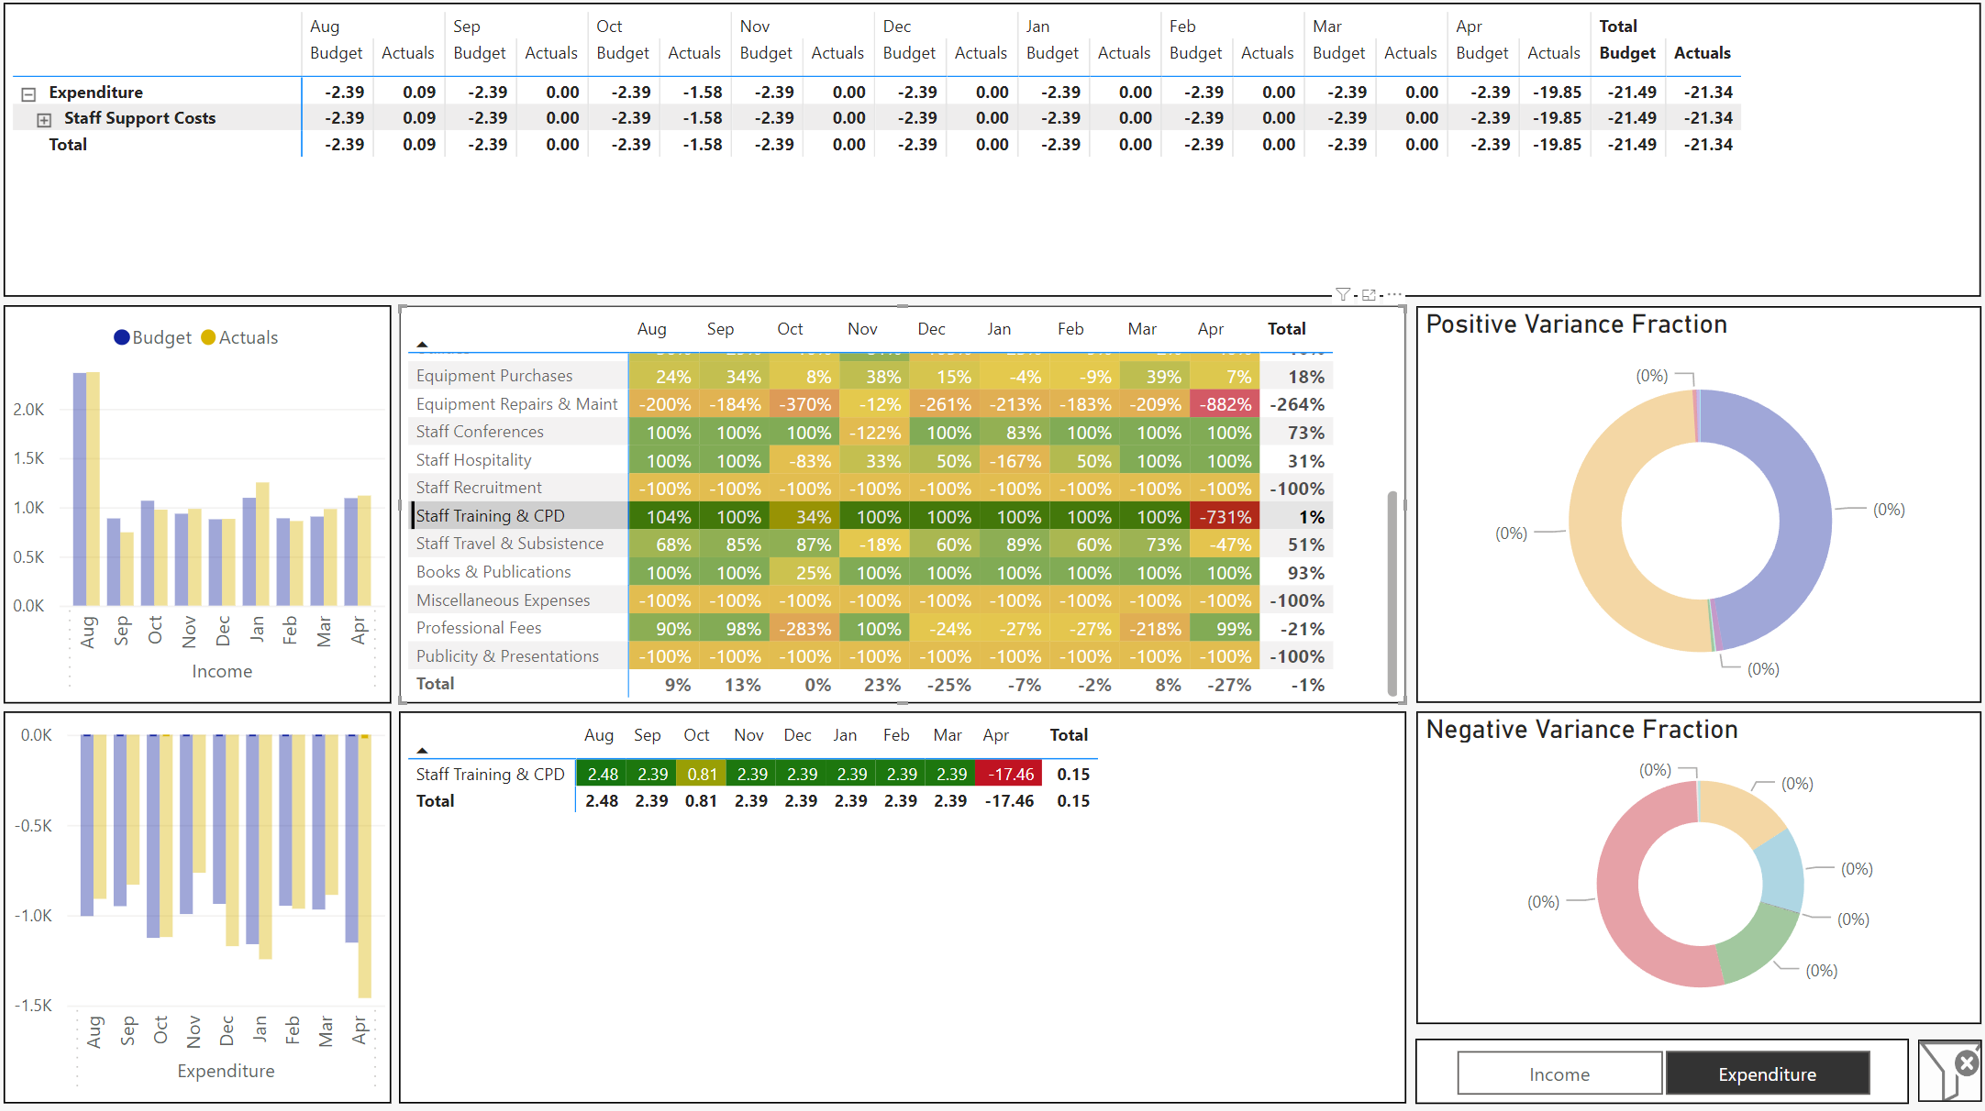

What the dashboard file says about the page in this screenshot:
{"tool":"powerbi","page":{"name":"Page 1","canvas":[1280,720],"ordinal":0},"visuals":[{"type":"slicer","fields":{"Values":["IE_Data.IE"]},"box":[46.7,596.5,150.5,49.8],"z":0},{"type":"slicer","fields":{"Values":["IE_Data.IE"]},"box":[98.3,247.6,143.8,51.6],"z":1000},{"type":"clusteredColumnChart","title":"Income by Month","fields":{"Category":["IE_Data.IE","IE_Data.Month"],"Y":["Sum(IE_Data.Budget)","Sum(IE_Data.Actuals)"]},"box":[4.9,460.8,249.4,251.9],"z":2000},{"type":"clusteredColumnChart","title":"Income by Month","fields":{"Category":["IE_Data.IE","IE_Data.Month"],"Y":["IE_Data.Budget_ABS","IE_Data.Actuals_ABS"]},"box":[4.9,199.7,249.4,256.2],"z":3000},{"type":"pivotTable","fields":{"Rows":["IE_Data.IE","IE_Data.Category","IE_Data.Subcategory"],"Columns":["IE_Data.Month"],"Values":["Sum(IE_Data.Budget)","Sum(IE_Data.Actuals)"]},"box":[4.9,5.5,1269.8,188.6],"z":4000},{"type":"pivotTable","fields":{"Columns":["IE_Data.Month"],"Values":["IE_Data.Varience"],"Rows":["IE_Data.Subcategory"]},"box":[258.6,460.8,646.9,251.9],"z":5000},{"type":"pivotTable","fields":{"Rows":["IE_Data.Subcategory"],"Columns":["IE_Data.Month"],"Values":["IE_Data.Varience %"]},"box":[258.6,199.7,646.9,256.2],"z":6000},{"type":"slicer","fields":{"Values":["IE_Data.IE"]},"box":[911.7,670.9,317,41.8],"z":7000},{"type":"donutChart","title":"Positive Variance Fraction","fields":{"Y":["IE_Data.Variance_Positive"],"Category":["IE_Data.Subcategory"]},"box":[911.9,200.2,362.8,255.5],"z":8000},{"type":"donutChart","title":"Negative Variance Fraction","fields":{"Category":["IE_Data.Subcategory"],"Y":["IE_Data.Variance_Negative"]},"box":[911.9,460.9,362.8,201.5],"z":9000},{"type":"actionButton","box":[1234.2,671.5,40.5,39.9],"z":9001}]}

Visuals, with their boxes in screenshot pixels (x1, y1, x2, y2), scaled from the page's 1280x720 canvas onto the 1985x1111 screenshot:
slicer - IE_Data.IE: {"left": 72, "top": 920, "right": 306, "bottom": 997}
slicer - IE_Data.IE: {"left": 152, "top": 382, "right": 375, "bottom": 462}
"Income by Month" clusteredColumnChart: {"left": 8, "top": 711, "right": 394, "bottom": 1100}
"Income by Month" clusteredColumnChart: {"left": 8, "top": 308, "right": 394, "bottom": 703}
pivotTable - IE_Data.IE x IE_Data.Category: {"left": 8, "top": 8, "right": 1977, "bottom": 300}
pivotTable - IE_Data.Month x IE_Data.Varience: {"left": 401, "top": 711, "right": 1404, "bottom": 1100}
pivotTable - IE_Data.Subcategory x IE_Data.Month: {"left": 401, "top": 308, "right": 1404, "bottom": 703}
slicer - IE_Data.IE: {"left": 1414, "top": 1035, "right": 1905, "bottom": 1100}
"Positive Variance Fraction" donutChart: {"left": 1414, "top": 309, "right": 1977, "bottom": 703}
"Negative Variance Fraction" donutChart: {"left": 1414, "top": 711, "right": 1977, "bottom": 1022}
actionButton: {"left": 1914, "top": 1036, "right": 1977, "bottom": 1098}
